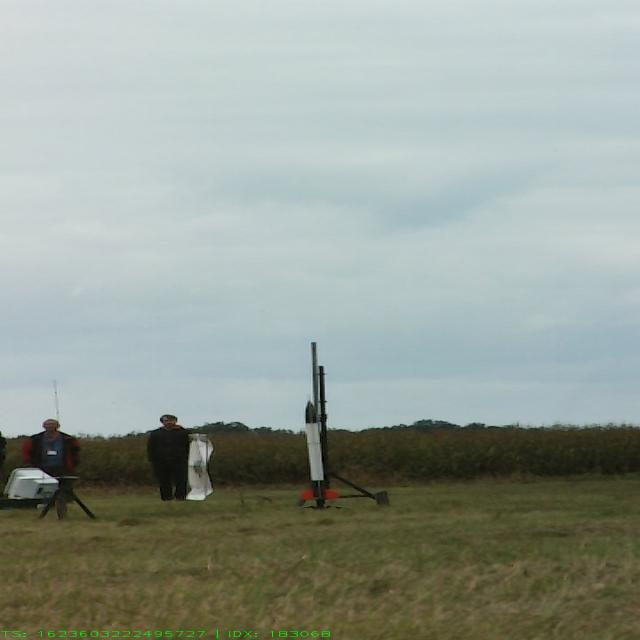Rocket: (300, 400, 340, 500)
